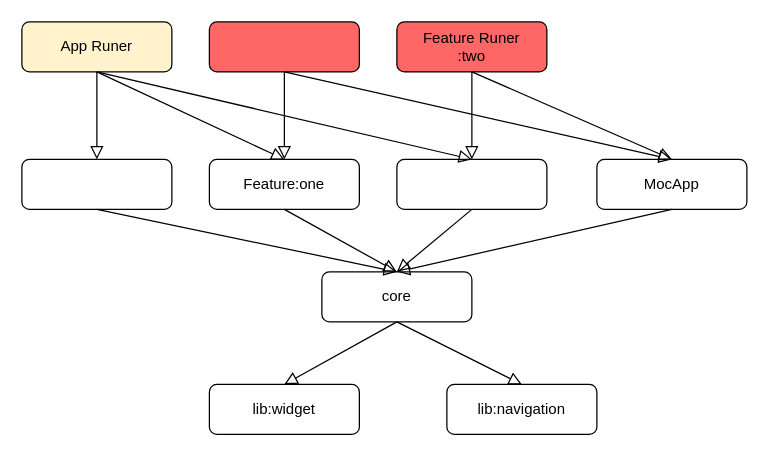
Some shapes in this 769 by 456 pixel diagram are drawn without their labels. Each missing label, with the centre of its shape:
"App" belongs at [96,183].
"Feature Runer :one" belongs at [283,46].
"Feature:two" belongs at [471,183].
